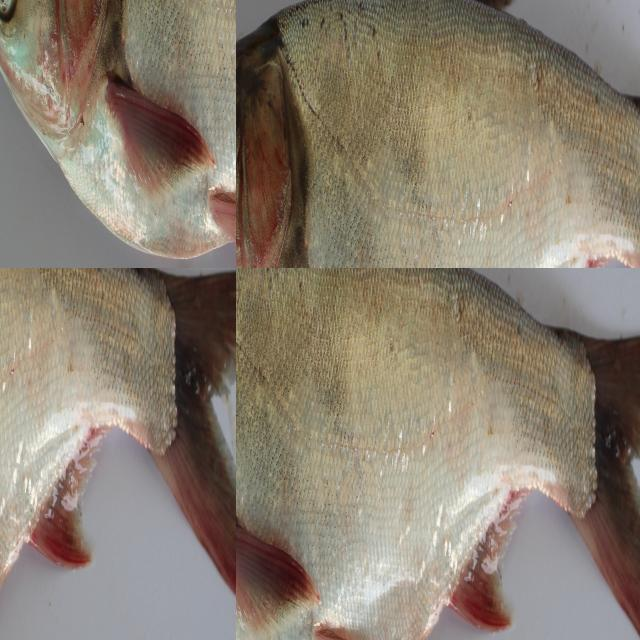fish: (236, 268, 640, 640)
